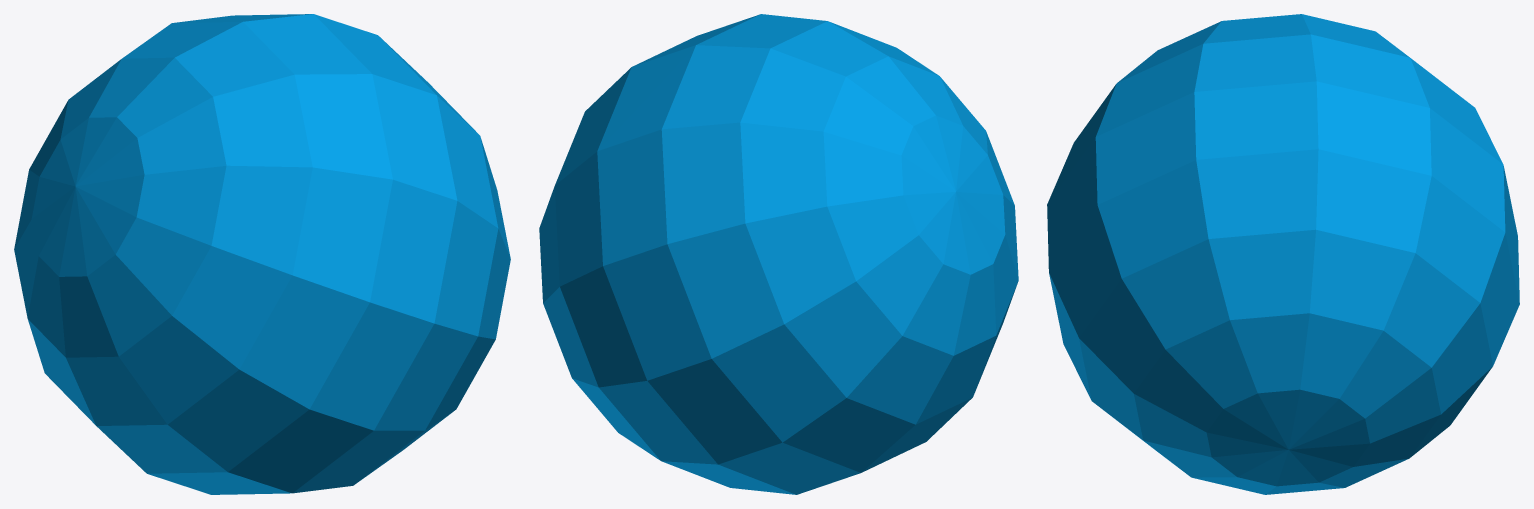
File: astronaut_spawn_group1564631837_lev4.glb
3 views of the same model, side by side, from view 1: azimuth 30°, elevation 25°; view 2: azimuth 150°, elevation 25°; view 3: azimuth 270°, elevation 25° (orthographic). The views are drawn at different scales.
Parts seen in each view (by area): view 1: astronaut_spawn_group1564631837_lev4; view 2: astronaut_spawn_group1564631837_lev4; view 3: astronaut_spawn_group1564631837_lev4.
Boxes of the visible parts, x1,y1,x2,y2 form: astronaut_spawn_group1564631837_lev4: (14, 14, 510, 494); astronaut_spawn_group1564631837_lev4: (539, 14, 1018, 494); astronaut_spawn_group1564631837_lev4: (1047, 14, 1519, 494).
Size of the model in its own units: 0.1359 by 0.1371 by 0.135.
